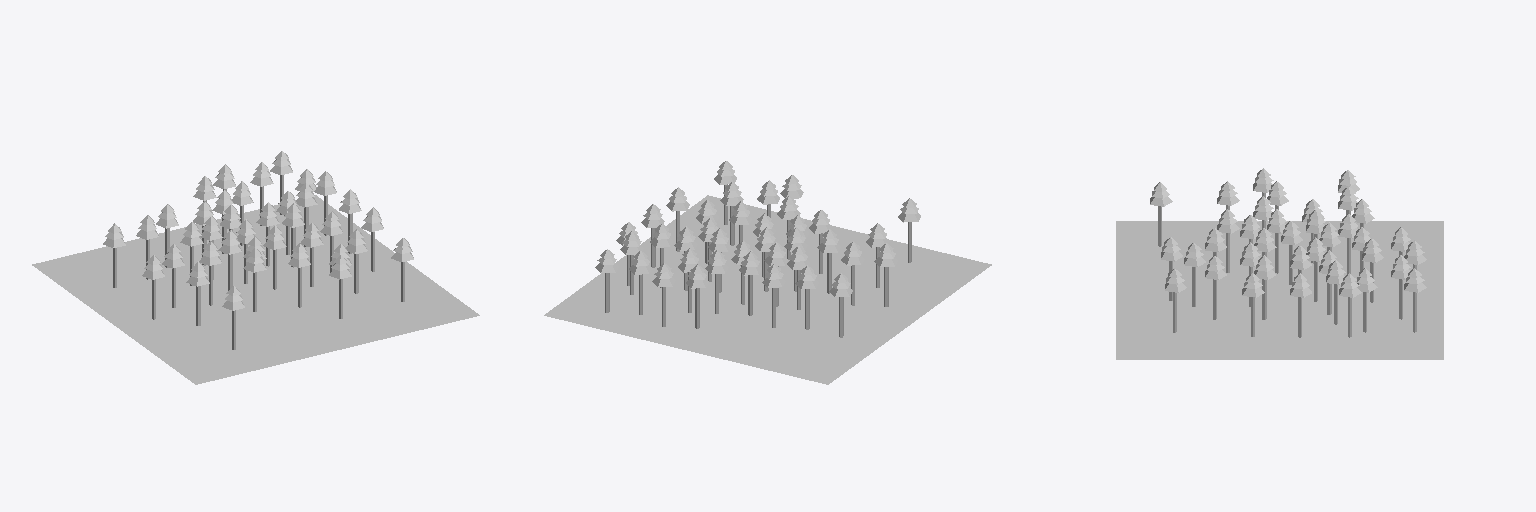
The model's file is world.obj.
The picture shows the model from 3 angles: view 1: azimuth 30°, elevation 25°; view 2: azimuth 150°, elevation 25°; view 3: azimuth 270°, elevation 25°; orthographic projection.
Visible parts, largest first — view 1: Plane, Circle.012, Circle.010; view 2: Plane, Circle.016, Circle.037, Circle.018, Circle.031, Circle.019, Circle.033, Circle.017, Circle.030, Circle.032, Circle.020, Circle.021 (+1 smaller); view 3: Plane, Circle.009.
Boxes of the visible parts, box(x1,y1,x2,y2) form: Plane: box(32, 195, 479, 384); Circle.012: box(186, 261, 209, 325); Circle.010: box(346, 229, 367, 293); Plane: box(544, 195, 991, 384); Circle.016: box(874, 243, 897, 306); Circle.037: box(829, 273, 852, 337); Circle.018: box(739, 251, 761, 315); Circle.031: box(686, 264, 708, 328); Circle.019: box(795, 265, 818, 329); Circle.033: box(595, 249, 618, 312); Circle.017: box(817, 229, 840, 293); Circle.030: box(629, 251, 651, 314); Circle.032: box(652, 263, 675, 326); Circle.020: box(762, 264, 785, 327); Circle.021: box(705, 250, 728, 313); Plane: box(1116, 221, 1443, 359); Circle.009: box(1254, 255, 1275, 319).
Size of the model in its own units: 143 by 32.73 by 143.